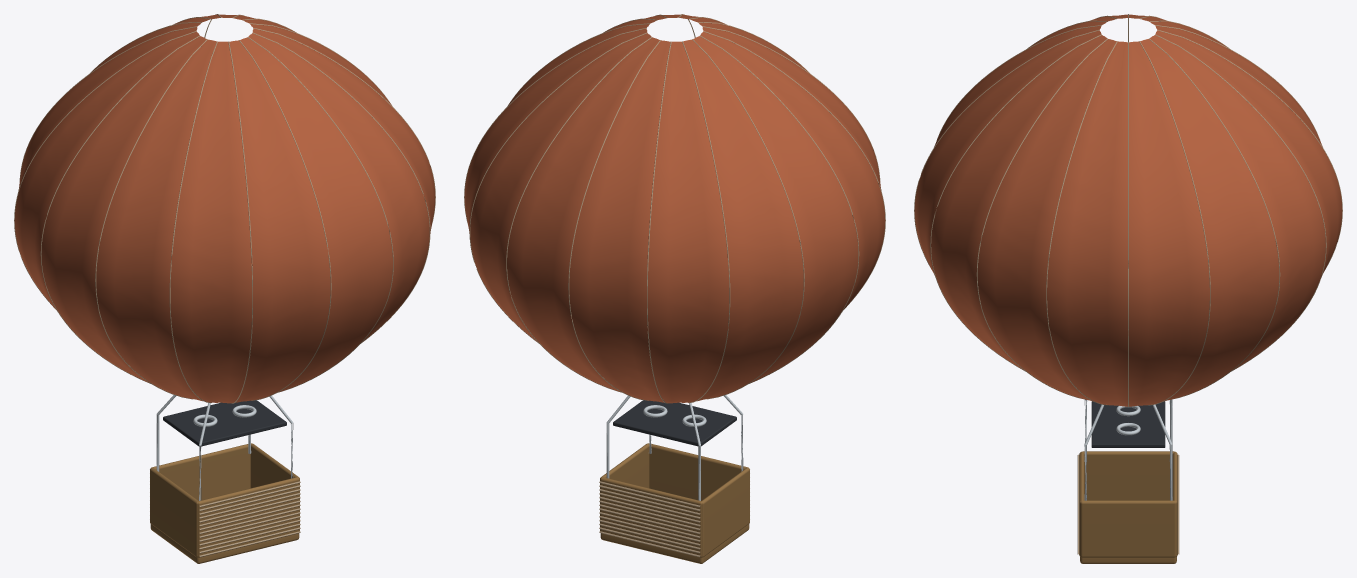
Rendered from balloon.glb.
3 views of the same model, side by side, from view 1: azimuth 30°, elevation 25°; view 2: azimuth 150°, elevation 25°; view 3: azimuth 270°, elevation 25° (orthographic).
Parts seen in each view (by area): view 1: StitchedGoreEnvelope, BasketLongWall, BasketLongWall.001, BurnerFrame, BasketEndWall, BasketEndWall.001, BasketFloor, EnvelopeSeam.009, EnvelopeSeam.012, EnvelopeSeam.013, EnvelopeSeam.010, EnvelopeSeam.008 (+2 smaller); view 2: StitchedGoreEnvelope, BasketLongWall.001, BasketLongWall, BurnerFrame, BasketEndWall, BasketEndWall.001, BasketFloor, EnvelopeSeam.007, EnvelopeSeam.004, EnvelopeSeam.003, EnvelopeSeam.006, EnvelopeSeam.008 (+2 smaller); view 3: StitchedGoreEnvelope, BasketEndWall.001, BasketEndWall, BurnerFrame, BasketFloor, EnvelopeSeam.002, EnvelopeSeam.014, EnvelopeSeam.001, EnvelopeSeam.015, EnvelopeSeam.003, EnvelopeSeam.013.
Boxes of the visible parts, <box> form: StitchedGoreEnvelope: <box>14,14,435,403</box>; BasketLongWall: <box>198,477,299,557</box>; BasketLongWall.001: <box>151,443,251,500</box>; BurnerFrame: <box>163,400,286,446</box>; BasketEndWall: <box>150,468,198,557</box>; BasketEndWall.001: <box>250,443,299,530</box>; BasketFloor: <box>150,524,299,563</box>; EnvelopeSeam.009: <box>95,39,207,399</box>; EnvelopeSeam.012: <box>239,40,331,400</box>; EnvelopeSeam.013: <box>247,37,393,392</box>; EnvelopeSeam.010: <box>169,41,217,402</box>; EnvelopeSeam.008: <box>40,35,199,383</box>; StitchedGoreEnvelope: <box>464,14,885,403</box>; BasketLongWall.001: <box>600,477,701,557</box>; BasketLongWall: <box>648,443,748,500</box>; BurnerFrame: <box>613,400,736,446</box>; BasketEndWall: <box>701,468,749,557</box>; BasketEndWall.001: <box>600,443,649,530</box>; BasketFloor: <box>600,524,749,563</box>; EnvelopeSeam.007: <box>692,39,804,399</box>; EnvelopeSeam.004: <box>568,40,660,400</box>; EnvelopeSeam.003: <box>506,37,652,392</box>; EnvelopeSeam.006: <box>682,41,730,402</box>; EnvelopeSeam.008: <box>700,35,859,383</box>; StitchedGoreEnvelope: <box>914,14,1342,406</box>; BasketEndWall.001: <box>1080,500,1176,557</box>; BasketEndWall: <box>1081,451,1175,500</box>; BurnerFrame: <box>1091,401,1165,447</box>; BasketFloor: <box>1080,557,1176,563</box>; EnvelopeSeam.002: <box>1149,38,1280,399</box>; EnvelopeSeam.014: <box>976,38,1107,399</box>; EnvelopeSeam.001: <box>1139,41,1210,405</box>; EnvelopeSeam.015: <box>1046,41,1117,405</box>; EnvelopeSeam.003: <box>1155,34,1326,371</box>; EnvelopeSeam.013: <box>930,34,1101,371</box>.
Bounding box in the file's own units: 7.54 × 9.89 × 7.53.
